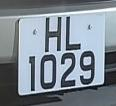0: (37, 53, 60, 93)
1: (24, 54, 37, 95)
2: (58, 51, 78, 91)
9: (78, 49, 97, 86)
H: (42, 10, 64, 55)
L: (63, 11, 84, 54)
